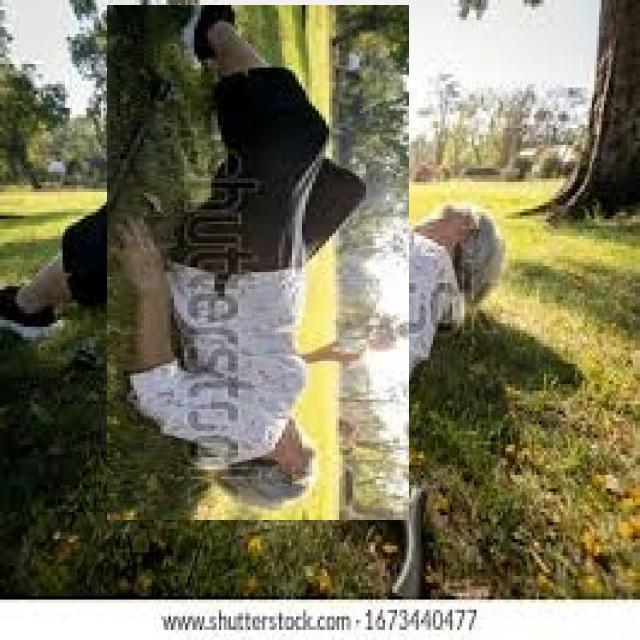Fall: (102, 13, 396, 525)
